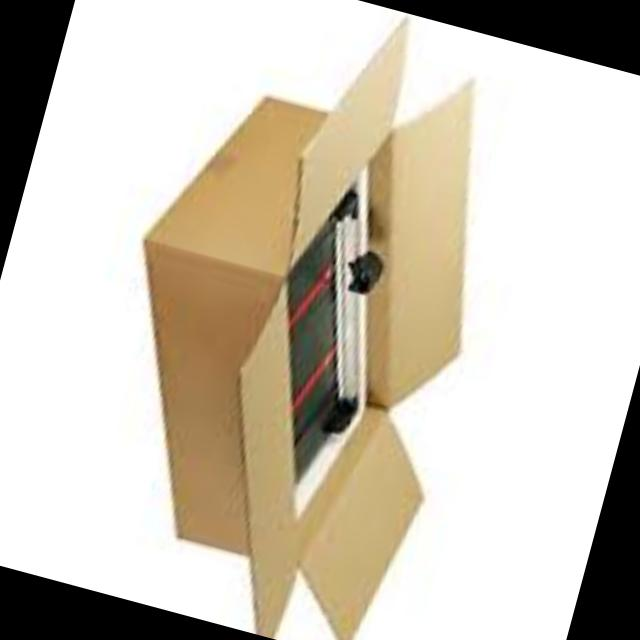cardboard paper: (152, 22, 478, 640)
